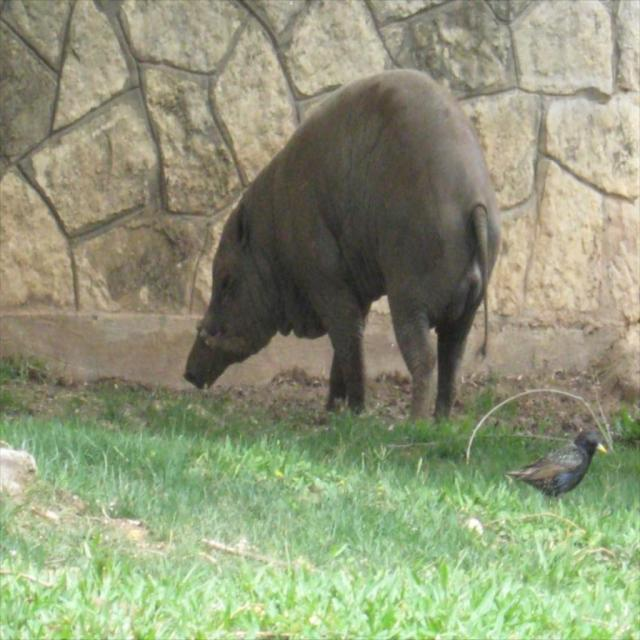Pig: (183, 70, 501, 424)
